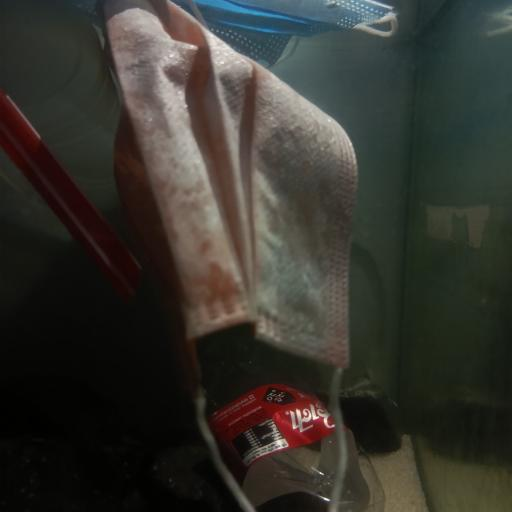mask: (101, 2, 357, 512), (171, 0, 399, 66)
plastic_bottle: (191, 334, 371, 512)
plastic_cup: (0, 0, 124, 191)
plastic_straw: (0, 88, 140, 304)
